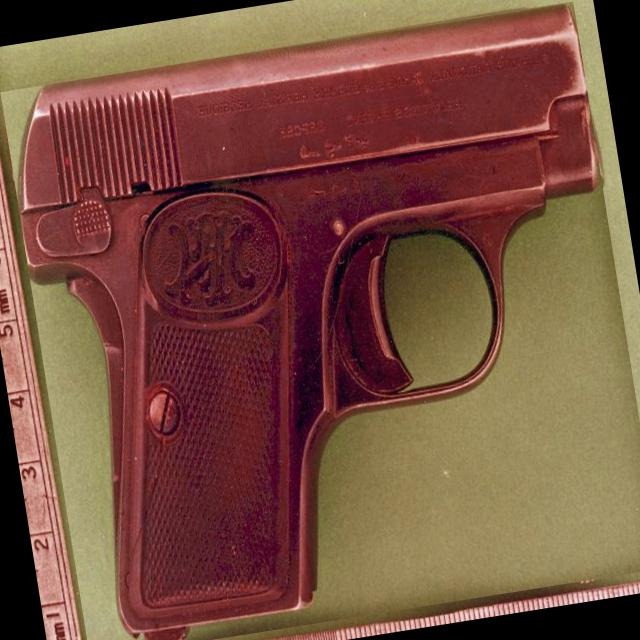Gun: (20, 6, 596, 640)
